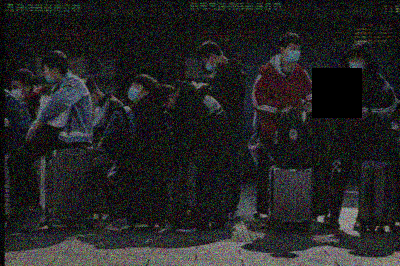mask_weared_incorrect: (41, 71, 55, 86)
with_mask: (284, 45, 300, 63), (347, 57, 363, 74), (126, 84, 141, 102), (9, 82, 23, 100), (202, 60, 216, 73)
